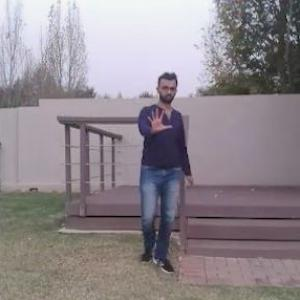follow_hand: (145, 103, 174, 136)
